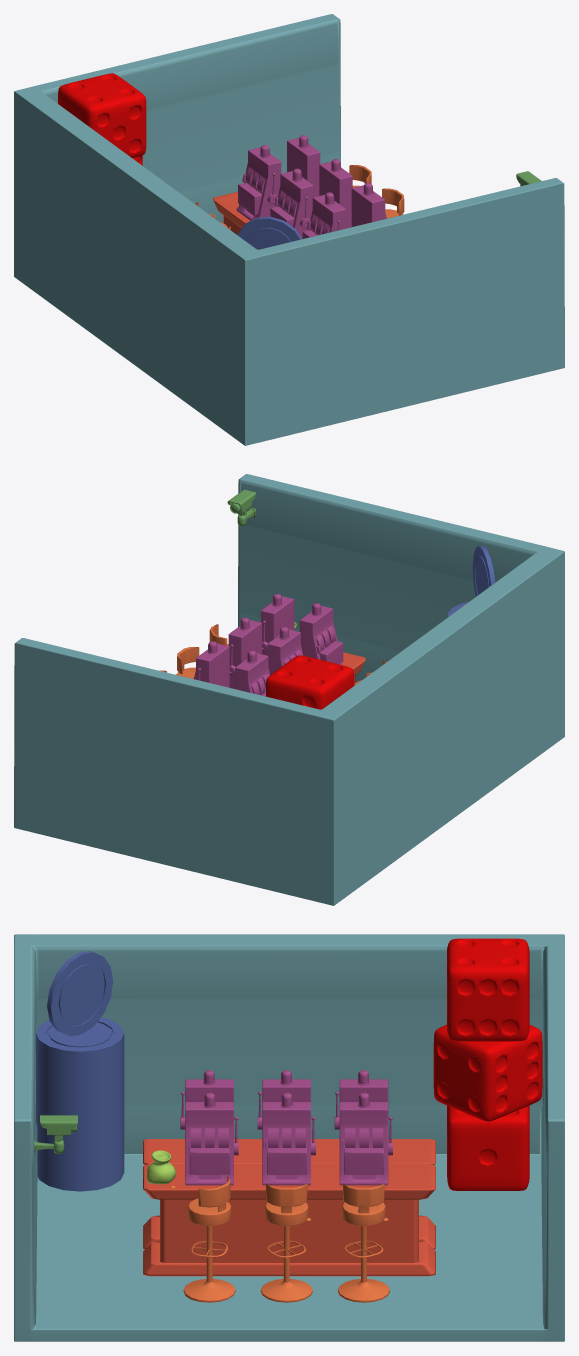
3 renders of one model, top to bottom at view 1: azimuth 30°, elevation 25°; view 2: azimuth 150°, elevation 25°; view 3: azimuth 270°, elevation 25°, orthographic. The views are drawn at different scales.
Visible parts, largest first — view 1: room, Dice2, slotMachine5, slotMachine4, PokerChip28, slotMachine6, slotMachine9, slotMachine8, slotMachine7, Counter1; view 2: room, Dice2, slotMachine6, slotMachine9, slotMachine7, slotMachine8, slotMachine5, slotMachine4, PokerChip28, SecCam, Stool9; view 3: room, Counter, Dice2, Dice4, Dice3, slotMachine8, slotMachine9, Counter1, slotMachine7, PokerChip28, Stool9, Stool8 (+19 smaller).
Part boxes in pixels (left/top/right/bottom): room: left=14, top=14, right=564, bottom=445; Dice2: left=58, top=73, right=146, bottom=158; slotMachine5: left=236, top=145, right=281, bottom=220; slotMachine4: left=270, top=168, right=313, bottom=238; PokerChip28: left=237, top=216, right=301, bottom=249; slotMachine6: left=302, top=192, right=346, bottom=238; slotMachine9: left=319, top=159, right=352, bottom=228; slotMachine8: left=287, top=135, right=320, bottom=197; slotMachine7: left=351, top=182, right=386, bottom=226; Counter1: left=212, top=191, right=249, bottom=234; room: left=14, top=474, right=564, bottom=905; Dice2: left=266, top=655, right=354, bottom=709; slotMachine6: left=299, top=603, right=343, bottom=664; slotMachine9: left=228, top=617, right=261, bottom=688; slotMachine7: left=261, top=594, right=294, bottom=655; slotMachine8: left=193, top=641, right=229, bottom=687; slotMachine5: left=235, top=650, right=269, bottom=696; slotMachine4: left=267, top=627, right=303, bottom=674; PokerChip28: left=472, top=545, right=495, bottom=596; SecCam: left=227, top=489, right=255, bottom=526; Stool9: left=176, top=647, right=199, bottom=678; room: left=14, top=934, right=564, bottom=1341; Counter: left=143, top=1164, right=435, bottom=1276; Dice2: left=447, top=938, right=529, bottom=1041; Dice4: left=433, top=1024, right=542, bottom=1121; Dice3: left=447, top=1105, right=529, bottom=1190; slotMachine8: left=339, top=1092, right=392, bottom=1185; slotMachine9: left=262, top=1092, right=315, bottom=1185; Counter1: left=143, top=1139, right=435, bottom=1249; slotMachine7: left=185, top=1092, right=238, bottom=1185; PokerChip28: left=47, top=951, right=113, bottom=1036; Stool9: left=260, top=1183, right=312, bottom=1302; Stool8: left=338, top=1183, right=389, bottom=1302.
Size of the model in its own units: 400 by 236 by 500.
